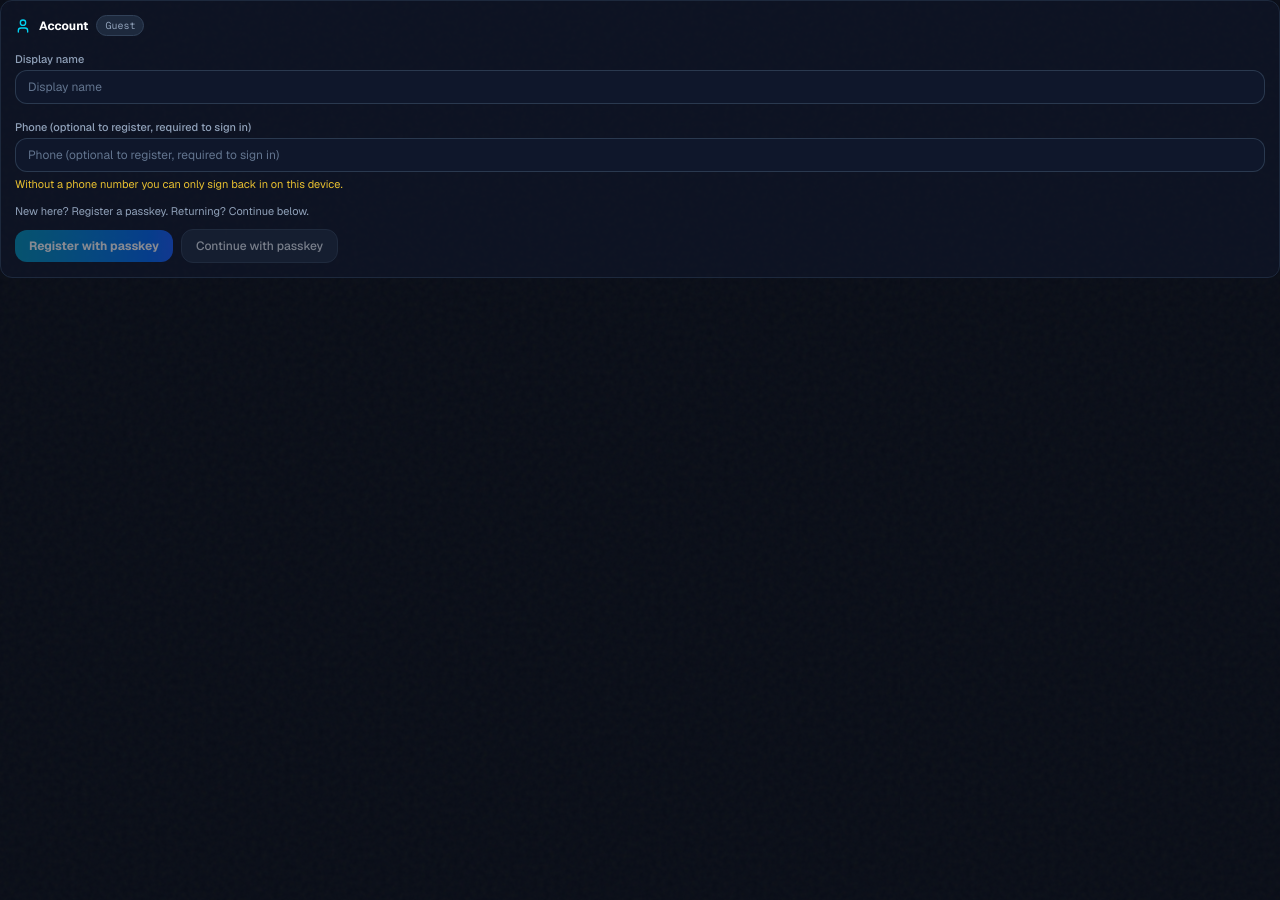
account error mapping › expired challenges say nothing changed and to retry
Type "081999000333" into the field labelled "Phone (optional to register, required to sign in)".
click(640, 155); type("081999000333")  # box [15,138,1265,172]
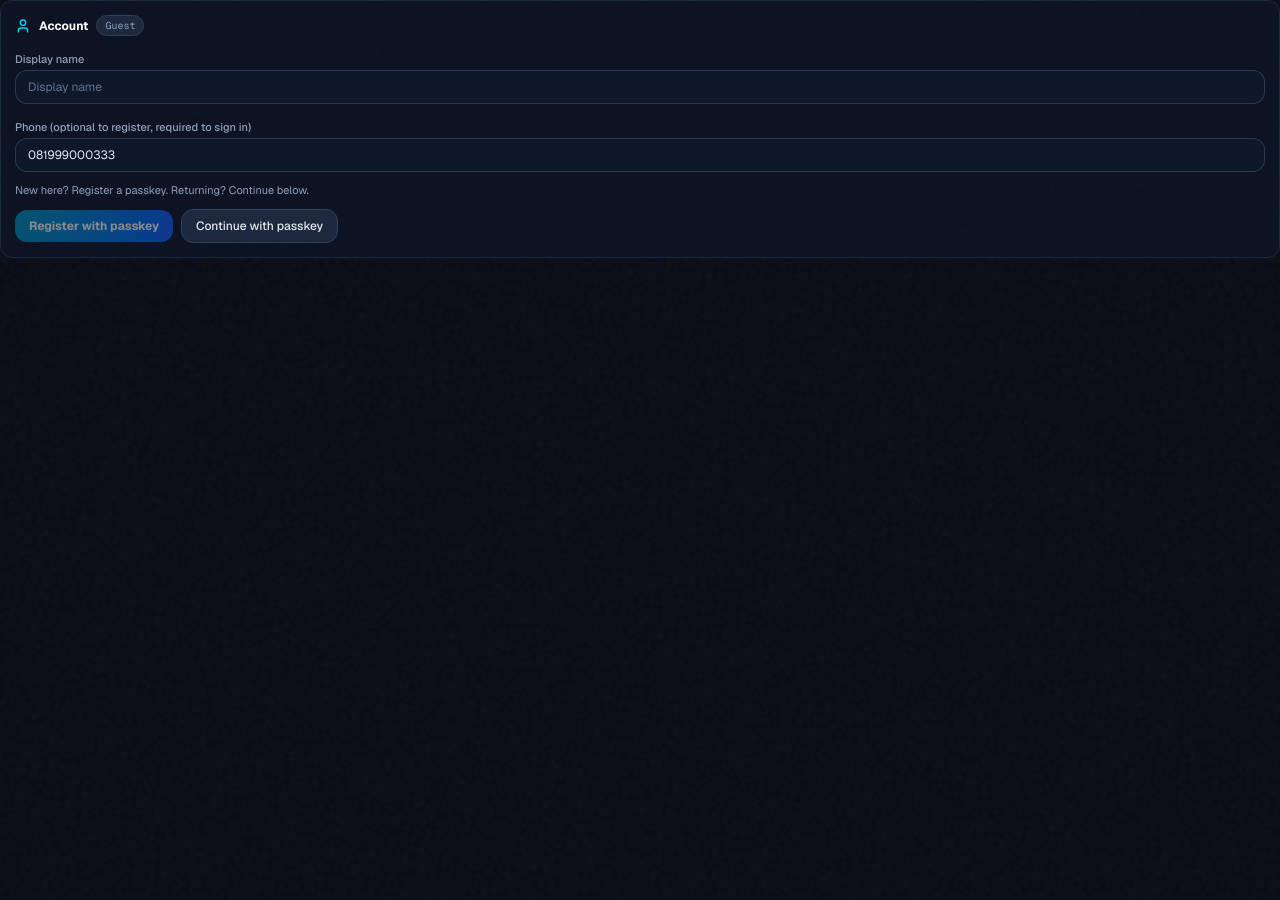
Click the button "Continue with passkey".
click(260, 226)  # box [181,208,338,242]
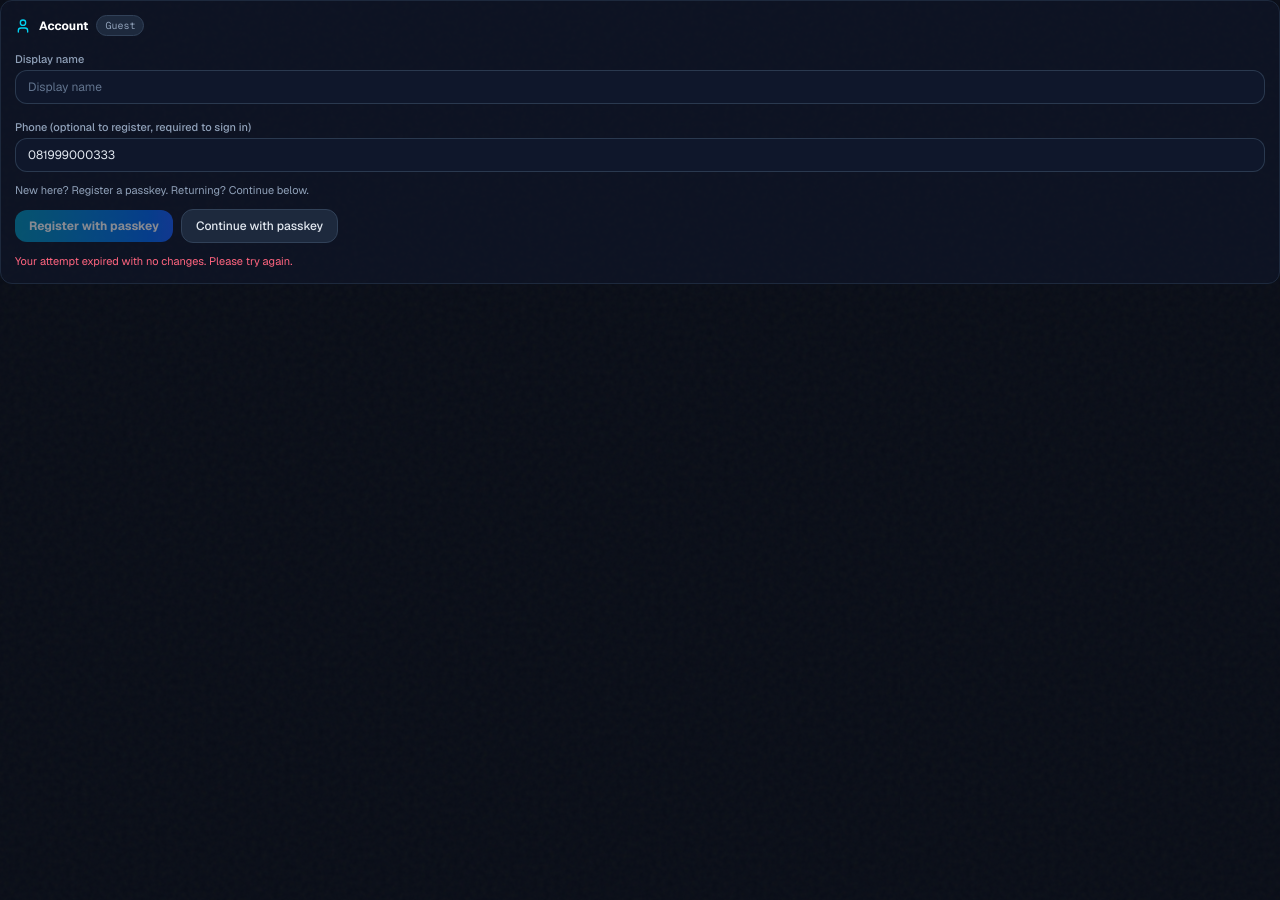
Result: the text "Your attempt expired with no changes. Please try again." is shown at [15,254,292,268]
